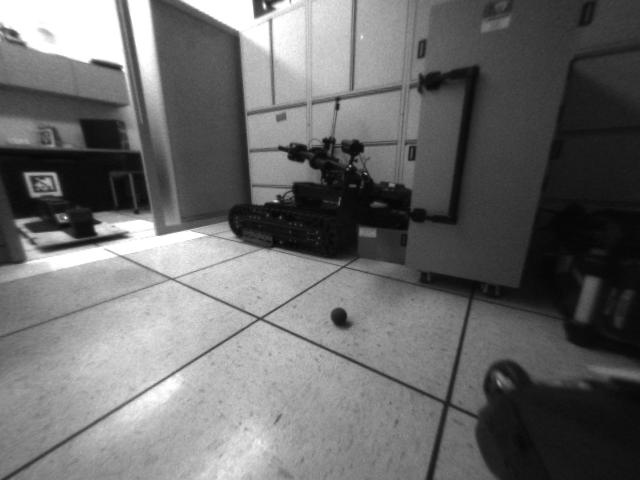dogtoy: (323, 303, 356, 332)
